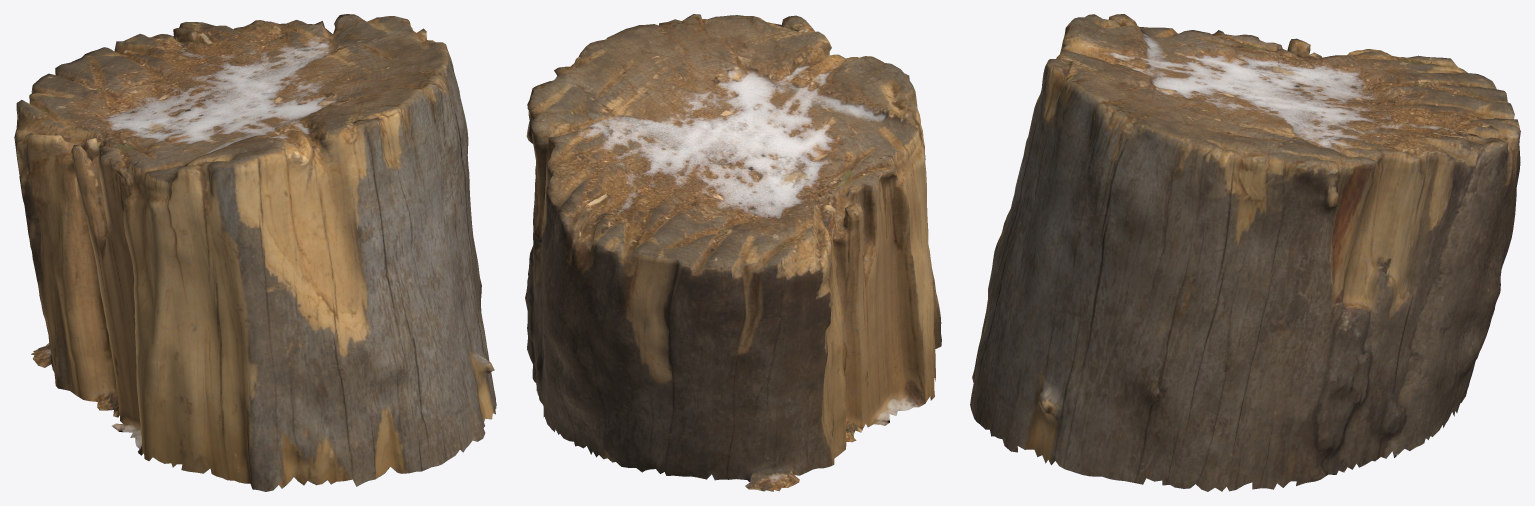
Rendered from log_chopping_stump.glb.
3 views of the same model, side by side, from view 1: azimuth 30°, elevation 25°; view 2: azimuth 150°, elevation 25°; view 3: azimuth 270°, elevation 25° (orthographic). The views are drawn at different scales.
Visible parts, largest first — view 1: Log Chopping Stump 2; view 2: Log Chopping Stump 2; view 3: Log Chopping Stump 2.
Part boxes in pixels (x1,y1,x2,y2): Log Chopping Stump 2: (14, 14, 496, 491); Log Chopping Stump 2: (525, 14, 941, 491); Log Chopping Stump 2: (970, 14, 1520, 491).
Bounding box in the file's own units: 0.4063 × 0.3463 × 0.5035.
Materials: 1 (1 with a texture image).
